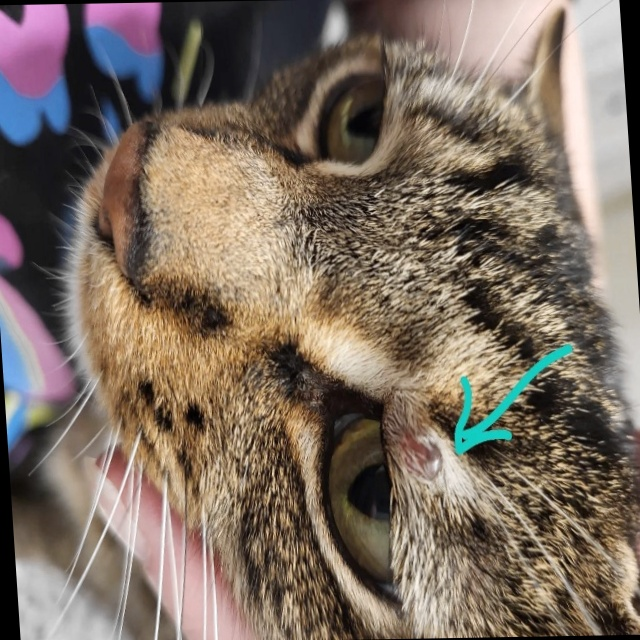lump_and_bump: (399, 432, 441, 478)
